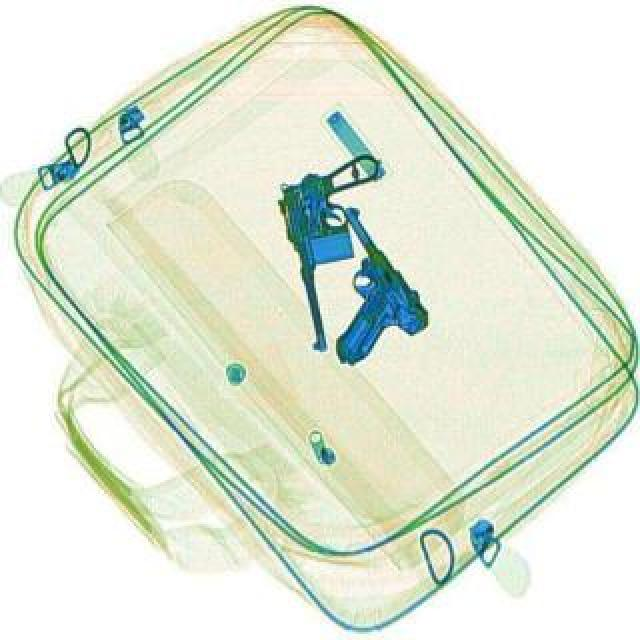gun: (270, 156, 416, 358), (266, 206, 436, 376)
